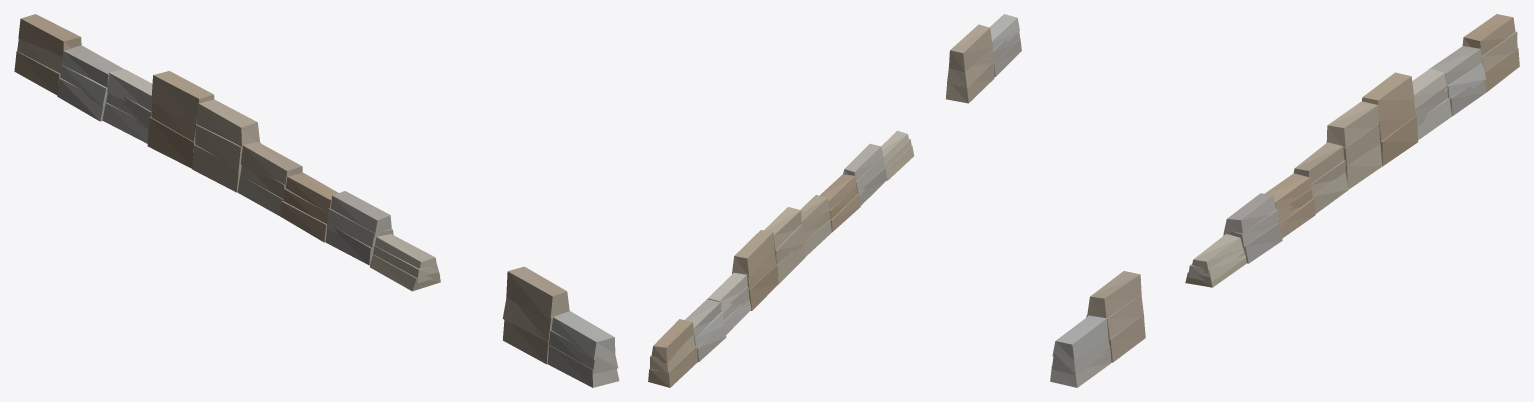
Rendered from farm_-48_-38_mid.glb.
3 views of the same model, side by side, from view 1: azimuth 30°, elevation 25°; view 2: azimuth 150°, elevation 25°; view 3: azimuth 330°, elevation 25° (orthographic). The views are drawn at different scales.
Parts seen in each view (by area): view 1: geometry_0; view 2: geometry_0; view 3: geometry_0.
Part boxes in pixels (box(x1,y1,x2,y2)): geometry_0: box(14, 14, 619, 387); geometry_0: box(648, 14, 1021, 387); geometry_0: box(1050, 14, 1519, 387).
Bounding box in the file's own units: 1.85 × 2.55 × 20.75.
